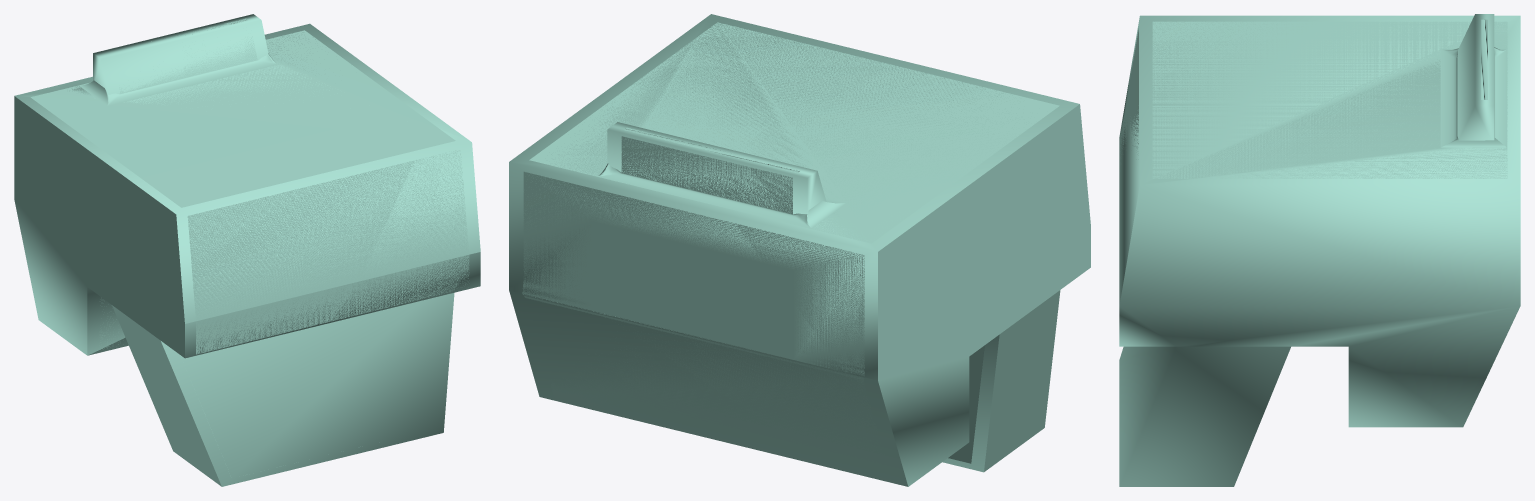
The model's file is space-kit__weapon_gun.glb.
The picture shows the model from 3 angles, left to right: view 1: azimuth 30°, elevation 25°; view 2: azimuth 150°, elevation 25°; view 3: azimuth 270°, elevation 25°; orthographic projection. The views are drawn at different scales.
Visible parts, largest first — view 1: L1_accent, L0_accent; view 2: L1_accent, L0_accent; view 3: L1_accent, L0_accent.
Boxes of the visible parts, box(x1,y1,x2,y2) form: L1_accent: box(14, 14, 480, 486); L0_accent: box(30, 18, 469, 429); L1_accent: box(509, 14, 1090, 486); L0_accent: box(522, 22, 1059, 472); L1_accent: box(1119, 14, 1520, 486); L0_accent: box(1119, 19, 1507, 178).
Size of the model in its own units: 1 by 1 by 1.
